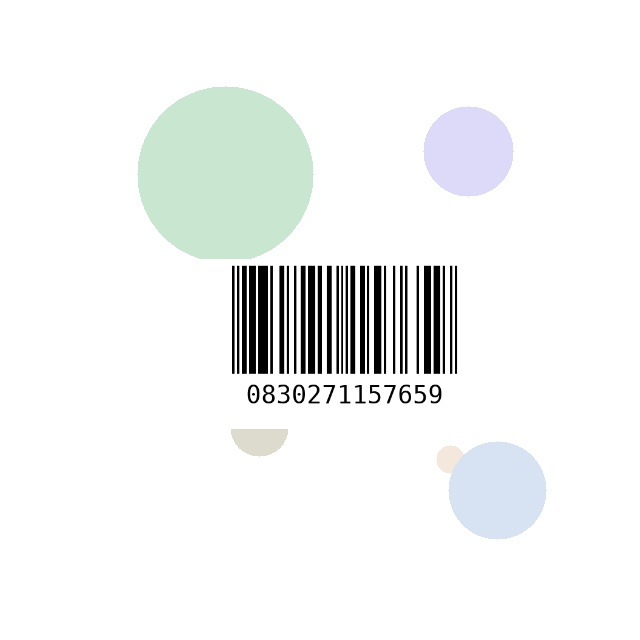barcode: (186, 259, 503, 429)
